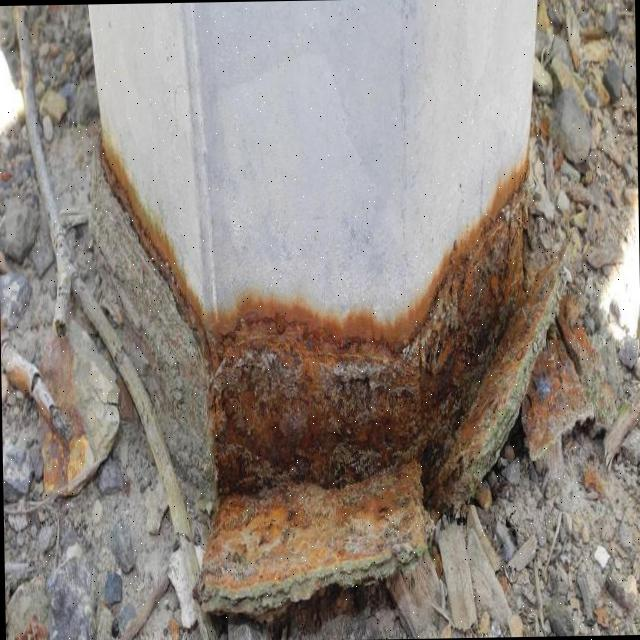Corrosion: (92, 107, 578, 618)
